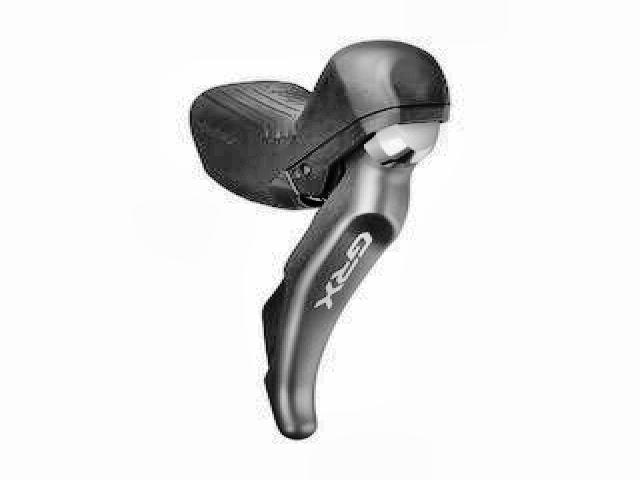sti_shifter: (192, 39, 458, 438)
